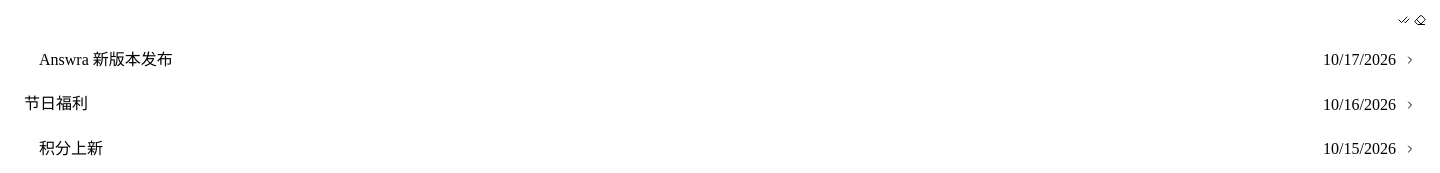
Scenario: AnnouncementList › opens an already read announcement without re-marking it
Click the button "节日福利 10/16/2026" at (56, 104), box left=16, top=82, right=1424, bottom=127
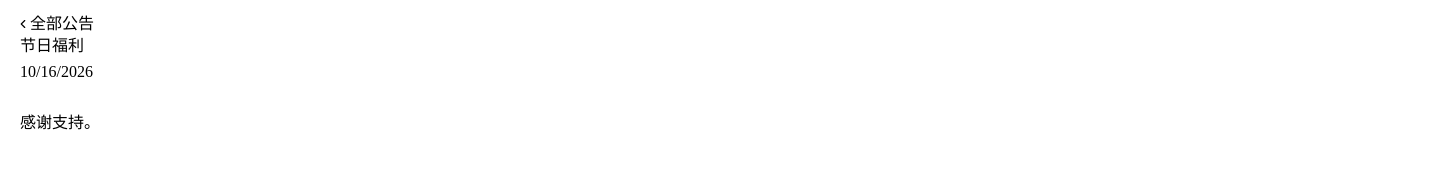
Now the text "感谢支持。" is shown, box left=20, top=114, right=100, bottom=131
